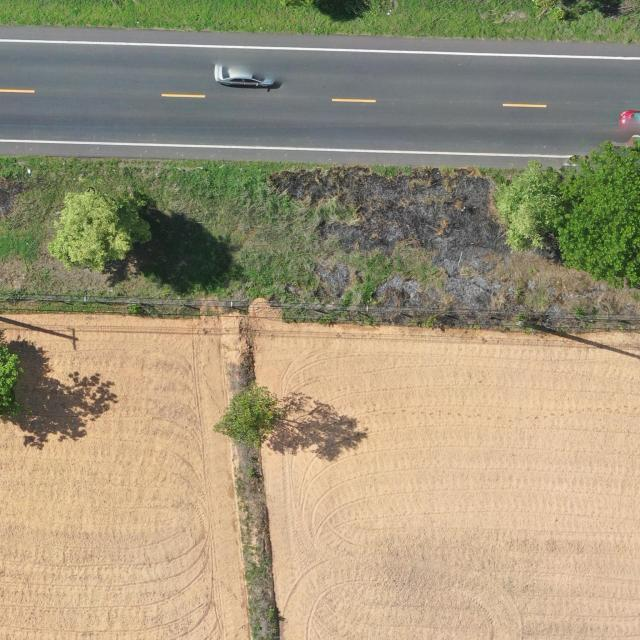Tree: (558, 137, 640, 285), (45, 190, 135, 274), (493, 158, 567, 255), (211, 381, 287, 450), (0, 341, 25, 422)
